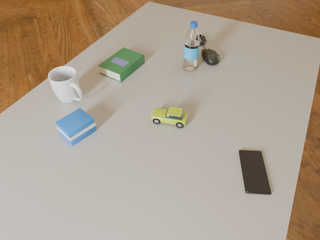book: (98, 48, 145, 82)
bottle: (183, 21, 200, 71)
box: (55, 108, 96, 146)
cup: (48, 66, 83, 103)
mouse: (202, 49, 220, 65)
phone: (239, 150, 271, 195)
toy_car: (151, 107, 187, 128)
